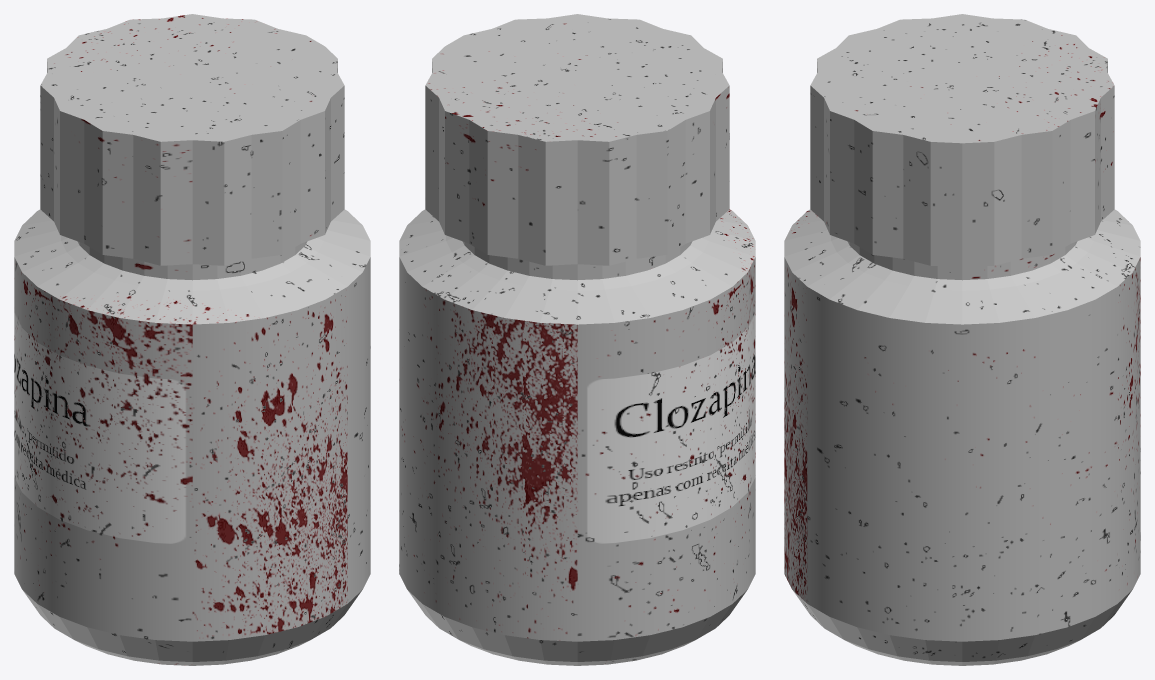
File: RemedioRE1.fbx
3 views of the same model, side by side, from view 1: azimuth 30°, elevation 25°; view 2: azimuth 150°, elevation 25°; view 3: azimuth 270°, elevation 25° (orthographic).
Parts seen in each view (by area): view 1: Remedio; view 2: Remedio; view 3: Remedio.
Boxes of the visible parts, x1,y1,x2,y2 form: Remedio: (14, 14, 370, 665); Remedio: (399, 14, 755, 665); Remedio: (784, 14, 1140, 665).
Size of the model in its own units: 2.26 by 3.67 by 2.25.
1 material, 1 textured.
